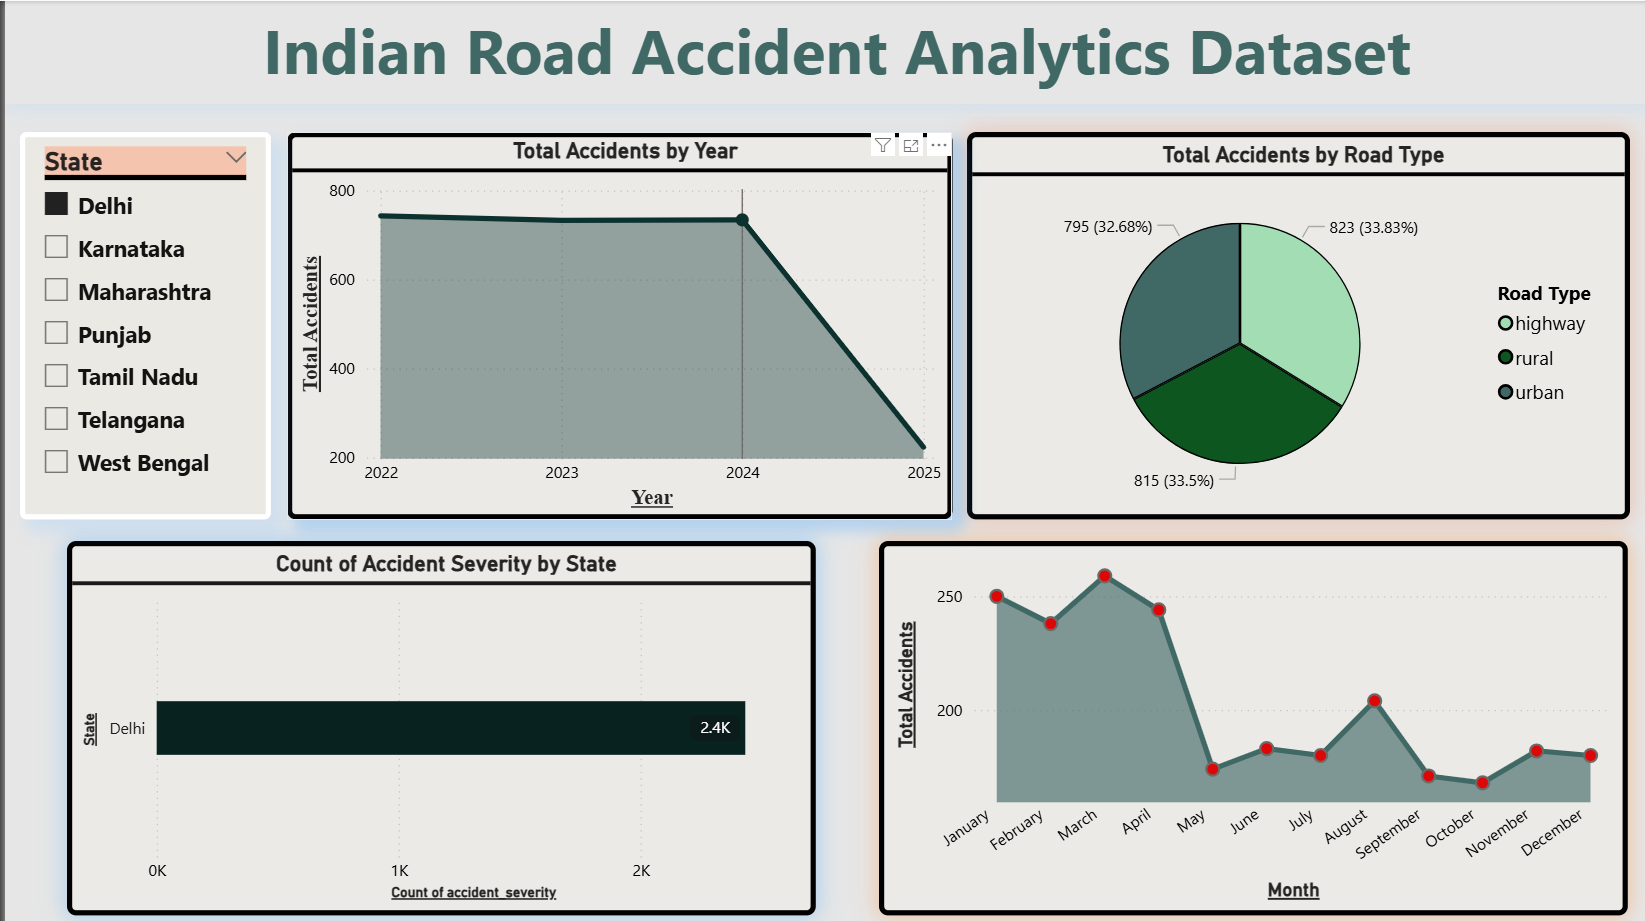

What the dashboard file says about the page in this screenshot:
{"tool":"powerbi","page":{"name":"Page 3","canvas":[1280,720],"ordinal":1},"visuals":[{"type":"textbox","box":[0,0,1280,80],"z":0},{"type":"pieChart","title":"Total Accidents by Road Type","fields":{"Category":["indian_roads_dataset.road_type"],"Y":["indian_roads_dataset.Total Accidents"]},"box":[740,101.7,510,298.3],"z":1000},{"type":"areaChart","fields":{"Category":["indian_roads_dataset.date.Variation.Date Hierarchy.Month"],"Y":["indian_roads_dataset.Total Accidents"]},"box":[672,416,576,288],"z":2000},{"type":"clusteredBarChart","title":"Count of Accident  Severity by State","fields":{"Category":["indian_roads_dataset.state"],"Y":["CountNonNull(indian_roads_dataset.accident_severity)"]},"box":[48,416,576,288],"z":3000},{"type":"lineChart","fields":{"Category":["indian_roads_dataset.date.Variation.Date Hierarchy.Year"],"Y":["indian_roads_dataset.Total Accidents"]},"box":[216.7,101.7,511.7,298.3],"z":4000},{"type":"slicer","fields":{"Values":["indian_roads_dataset.state"]},"box":[11.7,101.7,193.3,298.3],"z":5000}]}

Visuals, with their boxes in screenshot pixels (x1, y1, x2, y2), scaled from the page's 1280x720 canvas onto the 1645x921 screenshot:
textbox: BBox(0, 0, 1644, 102)
"Total Accidents by Road Type" pieChart: BBox(951, 130, 1606, 512)
areaChart - indian_roads_dataset.date.Variation.Date Hierarchy.Month x indian_roads_dataset.Total Accidents: BBox(864, 532, 1604, 901)
"Count of Accident  Severity by State" clusteredBarChart: BBox(62, 532, 802, 901)
lineChart - indian_roads_dataset.date.Variation.Date Hierarchy.Year x indian_roads_dataset.Total Accidents: BBox(278, 130, 936, 512)
slicer - indian_roads_dataset.state: BBox(15, 130, 263, 512)
